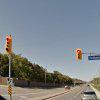Traffic light: (71, 42, 87, 63)
